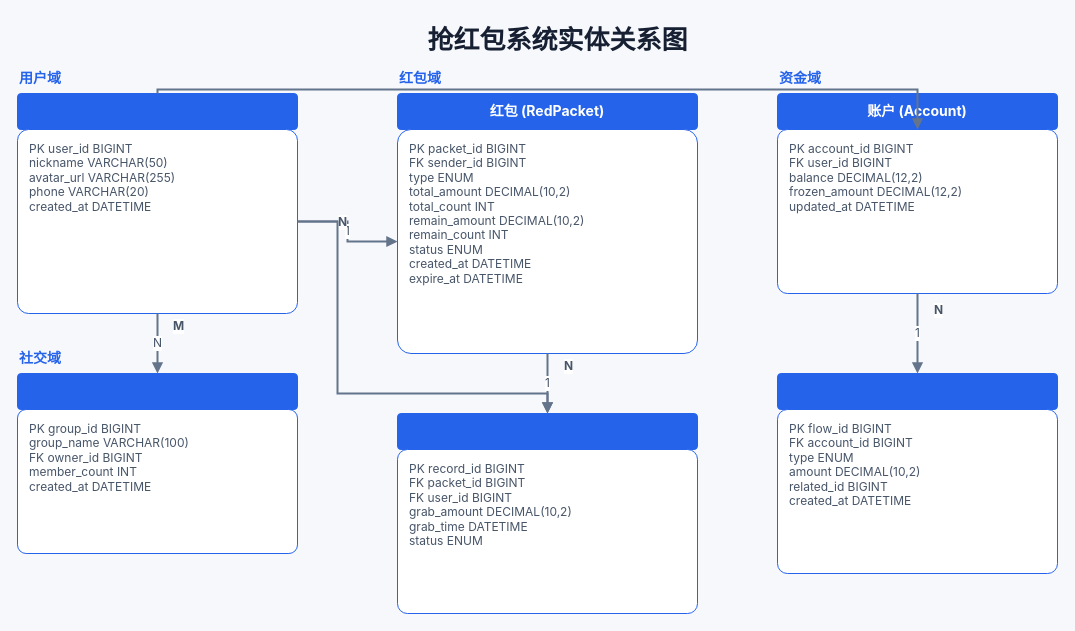
The diagram is 1075 pixels wide and 631 high, and some of its shapes have lost their labels. Each missing label, with the centre of its shape:
"用户 (User)" belongs at point 157,111.
"红包领取记录 (GrabRecord)" belongs at point 547,431.
"群组 (Group)" belongs at point 157,391.
"资金流水 (FundFlow)" belongs at point 917,391.
